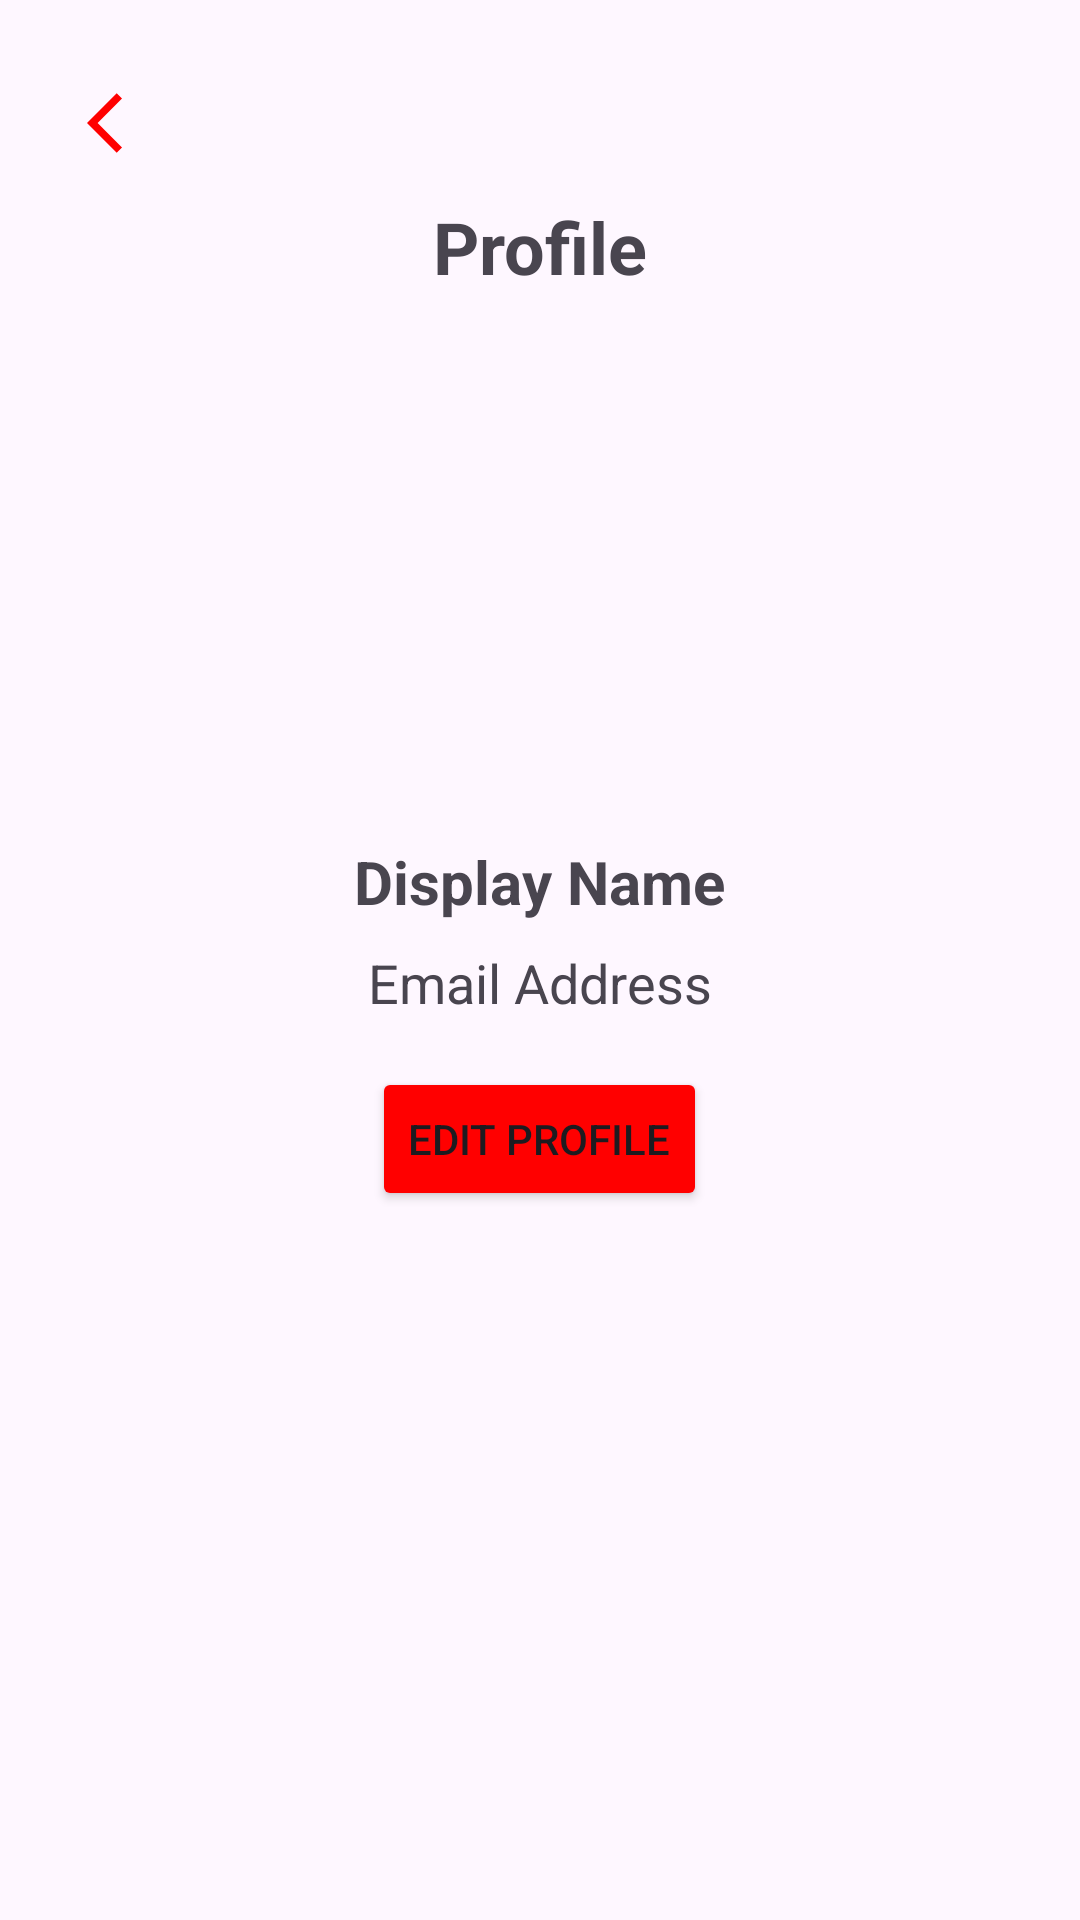

Icons on this 1080px×1920px Android screen, each with its box as (x1, y1, x2, y2):
Back: (87, 93, 122, 153)
